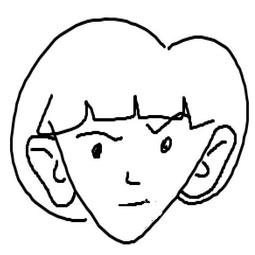eyebrow: (75, 128, 126, 143)
frowning_eyebrow: (144, 111, 185, 135)
large_ear: (180, 124, 238, 203), (23, 134, 79, 214)
line_unsmiling_mouth: (109, 194, 157, 210)
pointy_nose: (120, 166, 150, 189)
small_eye: (158, 135, 183, 159), (88, 140, 111, 164)
